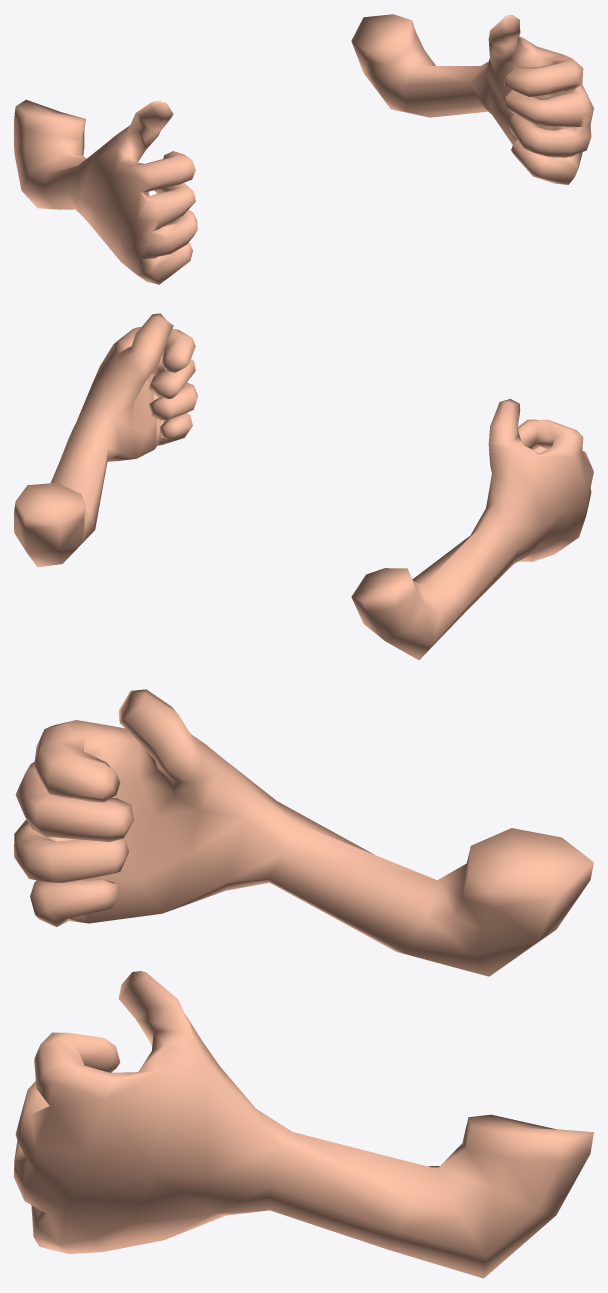
Rendered from AF_M_Arm_09.FBX.
3 views of the same model, one above another, from view 1: azimuth 30°, elevation 25°; view 2: azimuth 150°, elevation 25°; view 3: azimuth 270°, elevation 25° (orthographic). The views are drawn at different scales.
Visible parts, largest first — view 1: AF_M_Arm_09; view 2: AF_M_Arm_09; view 3: AF_M_Arm_09.
Part boxes in pixels (left/top/right/bottom): AF_M_Arm_09: left=14, top=14, right=593, bottom=284; AF_M_Arm_09: left=14, top=313, right=593, bottom=660; AF_M_Arm_09: left=14, top=689, right=593, bottom=1278.
Bounding box in the file's own units: 544 × 197 × 352.
Materials: 1 (1 with a texture image).
